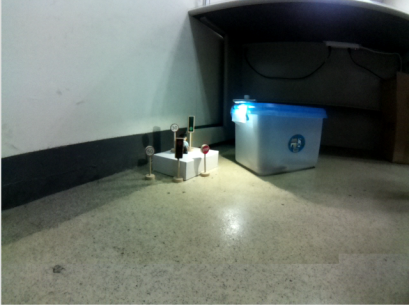Green: (187, 116, 197, 133)
Red: (173, 137, 185, 160)
Speed30: (168, 122, 181, 134)
Speed50: (144, 145, 156, 157)
Stop: (201, 144, 212, 154)
